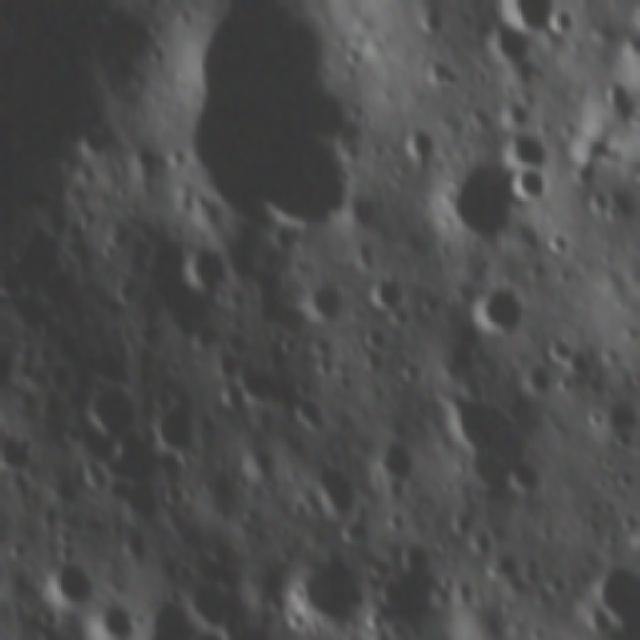crater: (163, 0, 352, 248), (284, 546, 370, 628), (444, 154, 511, 235), (82, 375, 140, 442), (591, 558, 640, 627), (36, 558, 93, 610), (478, 0, 567, 32), (470, 283, 524, 334), (179, 251, 230, 298), (156, 397, 199, 448), (510, 164, 553, 210), (89, 607, 147, 640), (296, 287, 341, 324), (358, 279, 404, 312), (508, 458, 542, 498), (522, 365, 556, 400), (548, 338, 580, 364), (182, 626, 240, 640), (607, 82, 627, 115)
